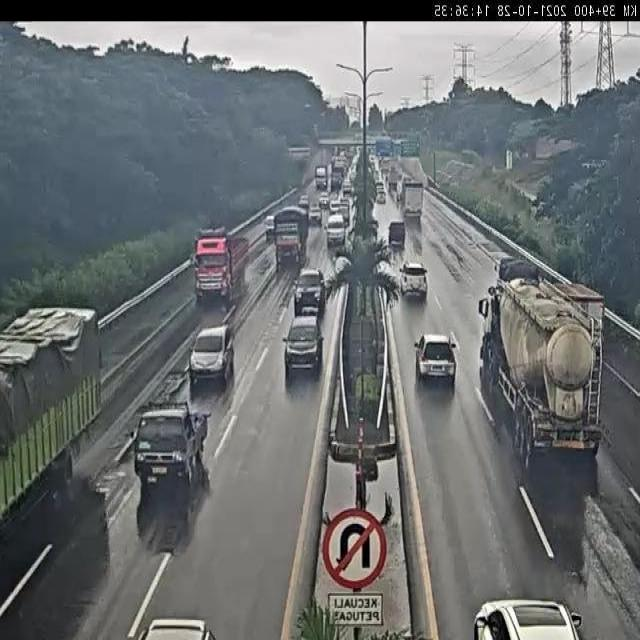Car: (472, 598, 586, 638), (282, 312, 325, 379), (192, 325, 233, 388), (416, 334, 456, 390), (293, 266, 327, 316), (400, 258, 430, 305), (326, 212, 346, 249), (386, 218, 408, 245), (308, 203, 322, 224), (344, 146, 358, 160), (329, 198, 341, 214), (319, 192, 330, 208), (342, 180, 352, 197), (375, 180, 384, 198), (299, 194, 309, 209), (369, 154, 377, 167)
Truck: (476, 250, 603, 451), (0, 294, 94, 528), (131, 386, 211, 496), (185, 233, 244, 307), (267, 207, 306, 265), (402, 179, 425, 223), (314, 165, 328, 190)
